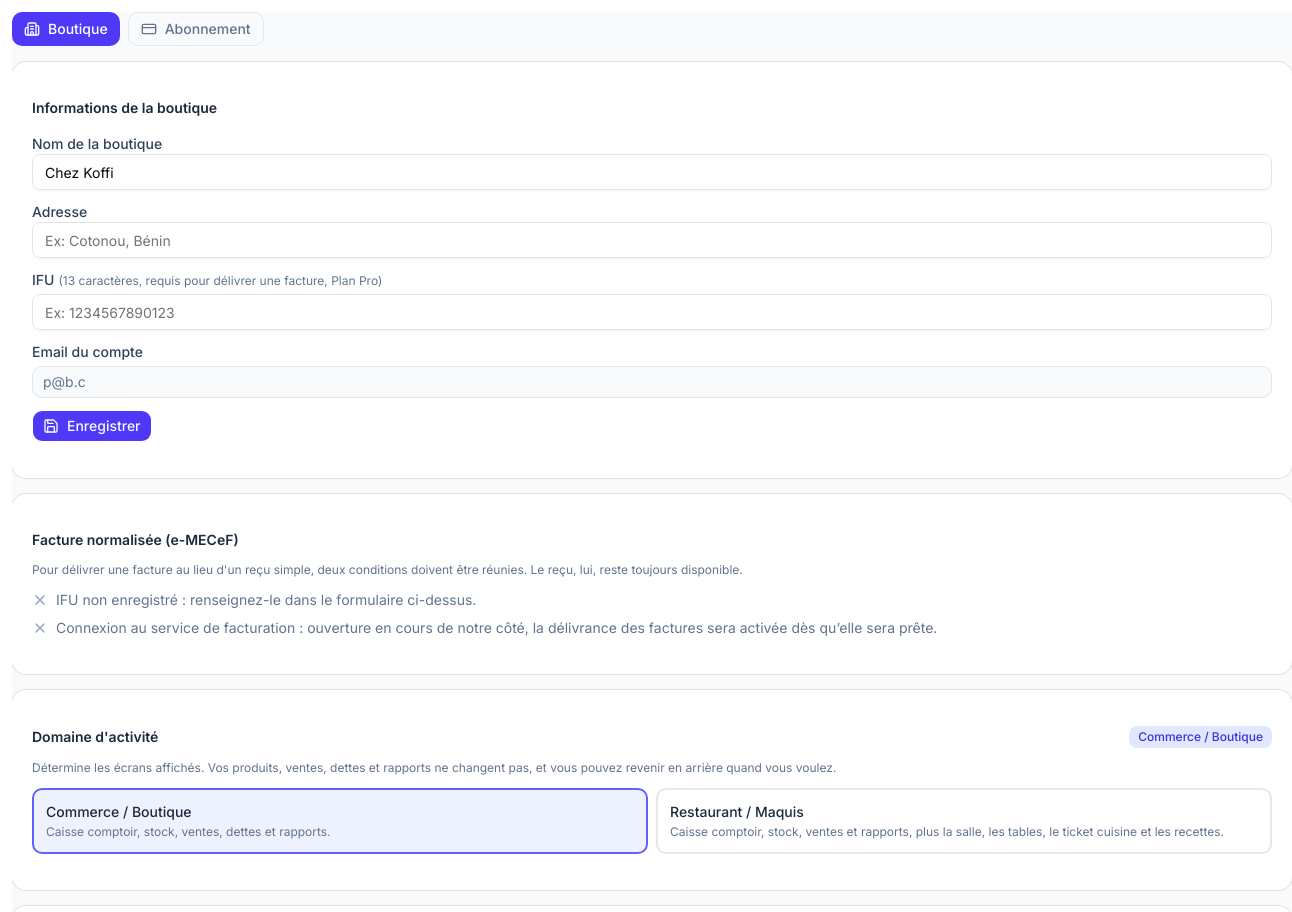
Test: SettingsModule — domaine et mode › signale une erreur d’écriture de domaine
Click the button "Restaurant / Maquis". click: (964, 821)
box: [656,788,1272,854]
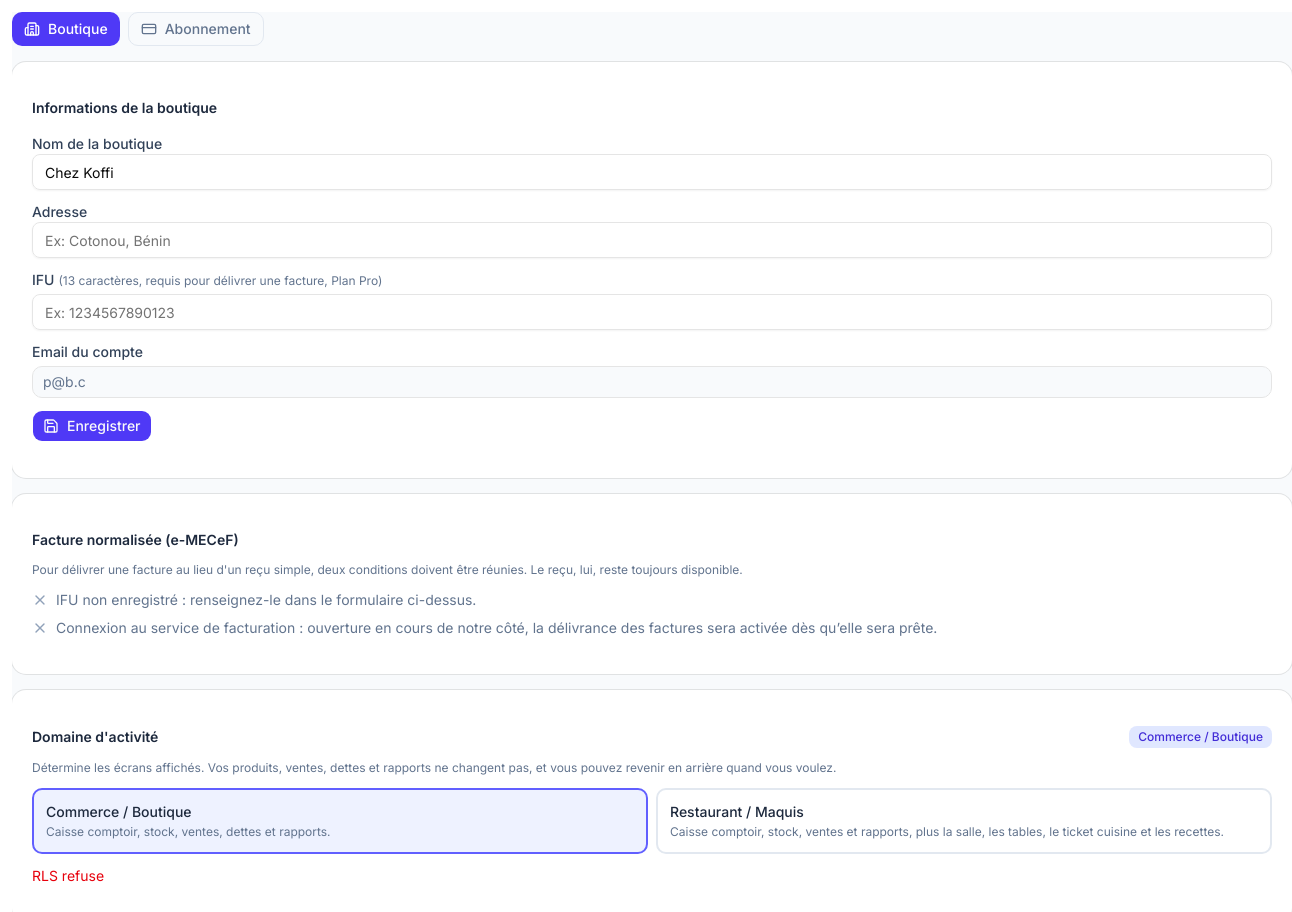
Expected: the text "RLS refuse" is shown, [32,867,104,884]
